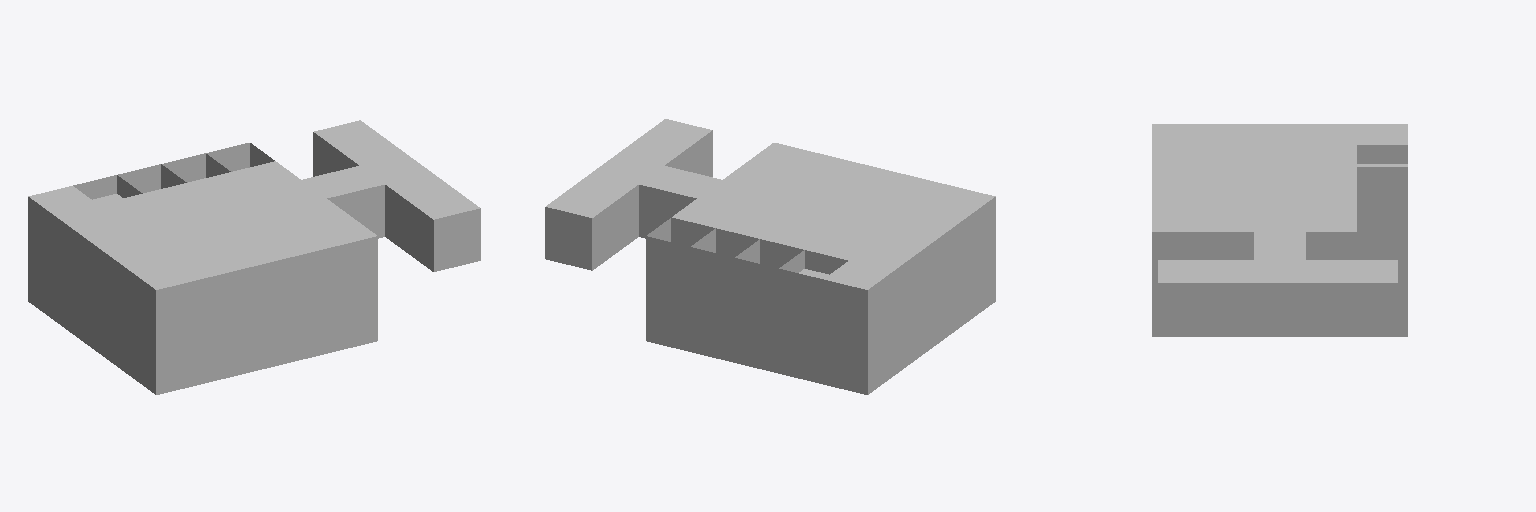
Rendered from room.obj.
3 renders of one model, left to right at view 1: azimuth 30°, elevation 25°; view 2: azimuth 150°, elevation 25°; view 3: azimuth 270°, elevation 25°, orthographic.
Parts seen in each view (by area): view 1: Cube; view 2: Cube; view 3: Cube.
Part boxes in pixels (bbox=[...]): Cube: bbox=[28, 120, 480, 394]; Cube: bbox=[545, 119, 995, 394]; Cube: bbox=[1152, 124, 1407, 336].
Size of the model in its own units: 11.81 by 3.63 by 8.